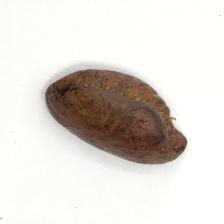NG: (49, 82, 153, 152), (155, 92, 191, 153)
